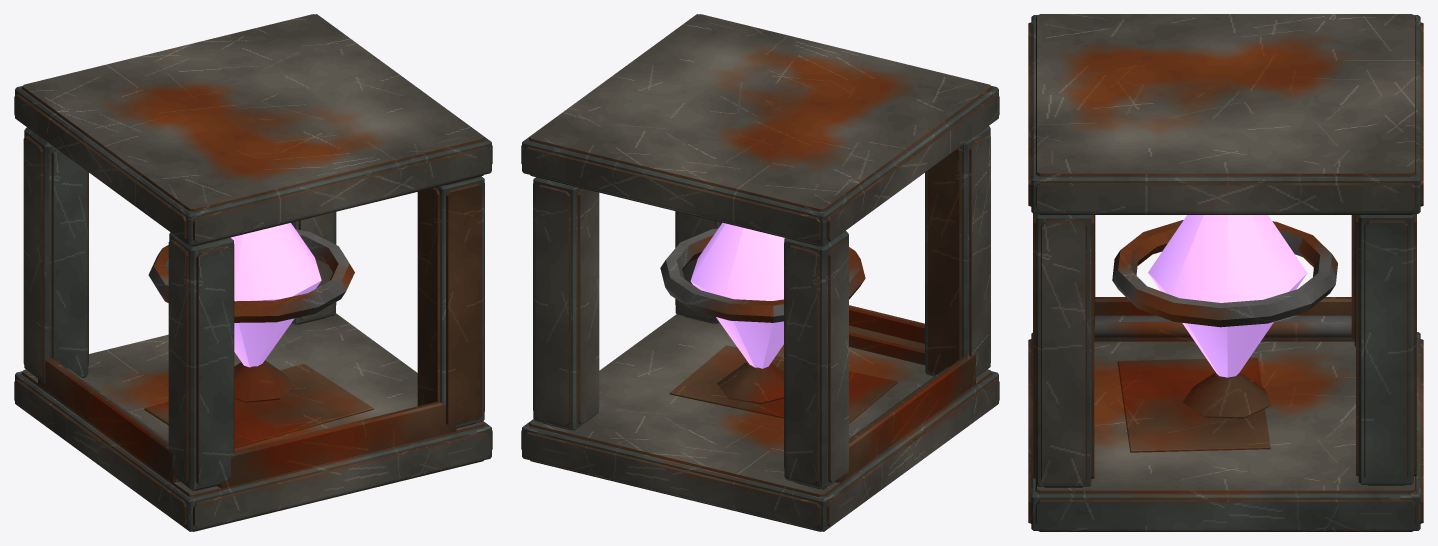
Rendered from R4X_CoreBooster.glb.
3 renders of one model, left to right at view 1: azimuth 30°, elevation 25°; view 2: azimuth 150°, elevation 25°; view 3: azimuth 270°, elevation 25°, orthographic. The views are drawn at different scales.
Parts seen in each view (by area): view 1: R4X_CoreBooster_Body; view 2: R4X_CoreBooster_Body; view 3: R4X_CoreBooster_Body.
Part boxes in pixels (x1=…): R4X_CoreBooster_Body: x1=14, y1=14, x2=492, y2=531; R4X_CoreBooster_Body: x1=521, y1=14, x2=999, y2=531; R4X_CoreBooster_Body: x1=1028, y1=14, x2=1423, y2=531.
Size of the model in its own units: 0.52 by 0.52 by 0.52.
Materials: 5 (4 with a texture image).
